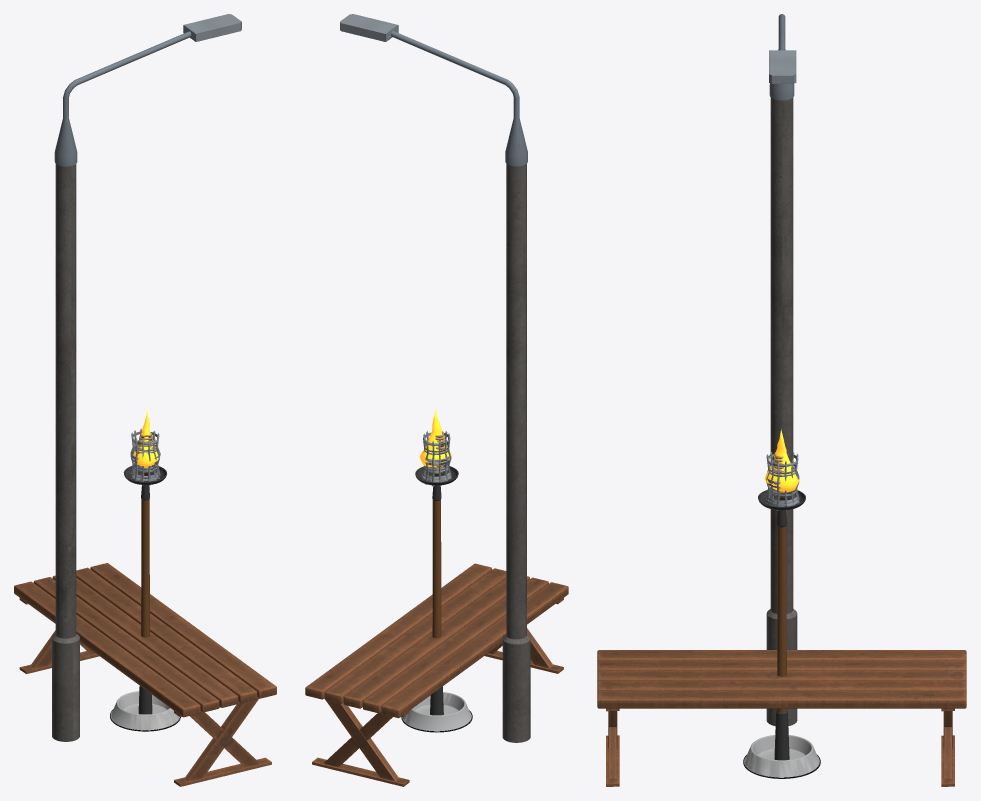
3 views of the same model, side by side, from view 1: azimuth 30°, elevation 25°; view 2: azimuth 150°, elevation 25°; view 3: azimuth 270°, elevation 25° (orthographic). The views are drawn at different scales.
Visible parts, largest first — view 1: Material_1001, Pillar, material, DogBowl01, wood, Lamp, metallic_clean, metal, fire_flame; view 2: Material_1001, Pillar, material, DogBowl01, wood, Lamp, metallic_clean, metal, fire_flame; view 3: Material_1001, Pillar, DogBowl01, wood, metal, metallic_clean, Lamp, fire_flame, material.
Part boxes in pixels (x1,y1,x2,y2): Material_1001: (14,563,276,786); Pillar: (52,164,79,741); material: (54,31,191,166); DogBowl01: (110,691,180,731); wood: (141,499,149,637); Lamp: (183,14,241,41); metallic_clean: (130,428,160,485); metal: (123,464,166,714); fire_flame: (133,409,160,467); Material_1001: (305,563,568,786); Pillar: (502,164,530,742); material: (391,31,527,166); DogBowl01: (401,692,472,732); wood: (432,499,441,638); Lamp: (340,14,398,41); metallic_clean: (422,431,451,486); metal: (415,465,458,715); fire_flame: (419,410,451,466); Material_1001: (597,650,966,786); Pillar: (766,97,797,726); DogBowl01: (743,735,820,778); wood: (777,526,786,712); metal: (758,488,805,760); metallic_clean: (765,451,799,510); Lamp: (769,50,796,83); fire_flame: (764,429,799,491); material: (769,14,794,100).
Bounding box in the file's own units: 1.25 × 4.4 × 2.
11 materials, 5 textured.
